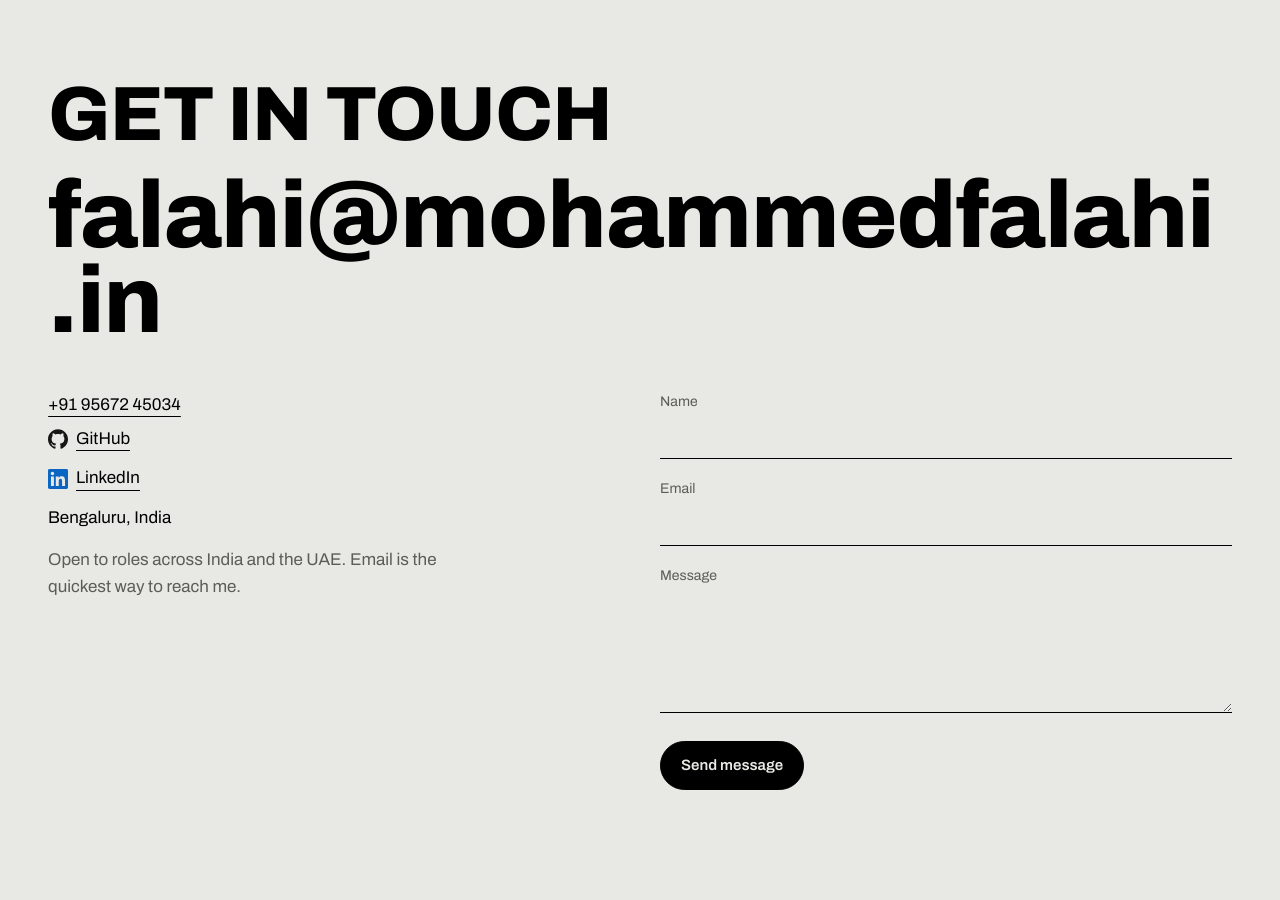
Test: Contact › shows the error when fetch rejects
Type "Ada" into the field labelled "Name" at [946, 437], box [660, 416, 1232, 459]
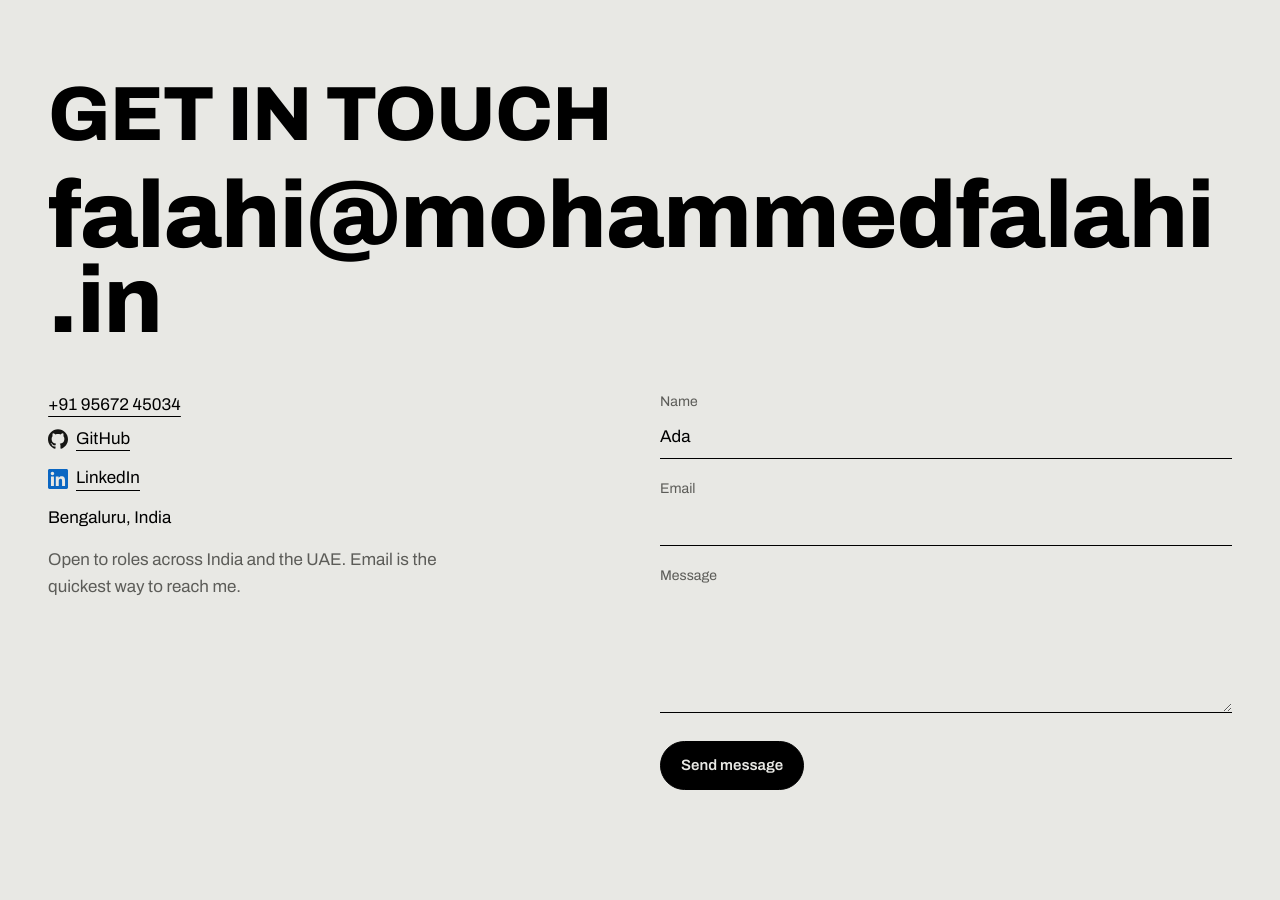
Type "ada@example.com" into the field labelled "Email" at [946, 525], box [660, 503, 1232, 546]
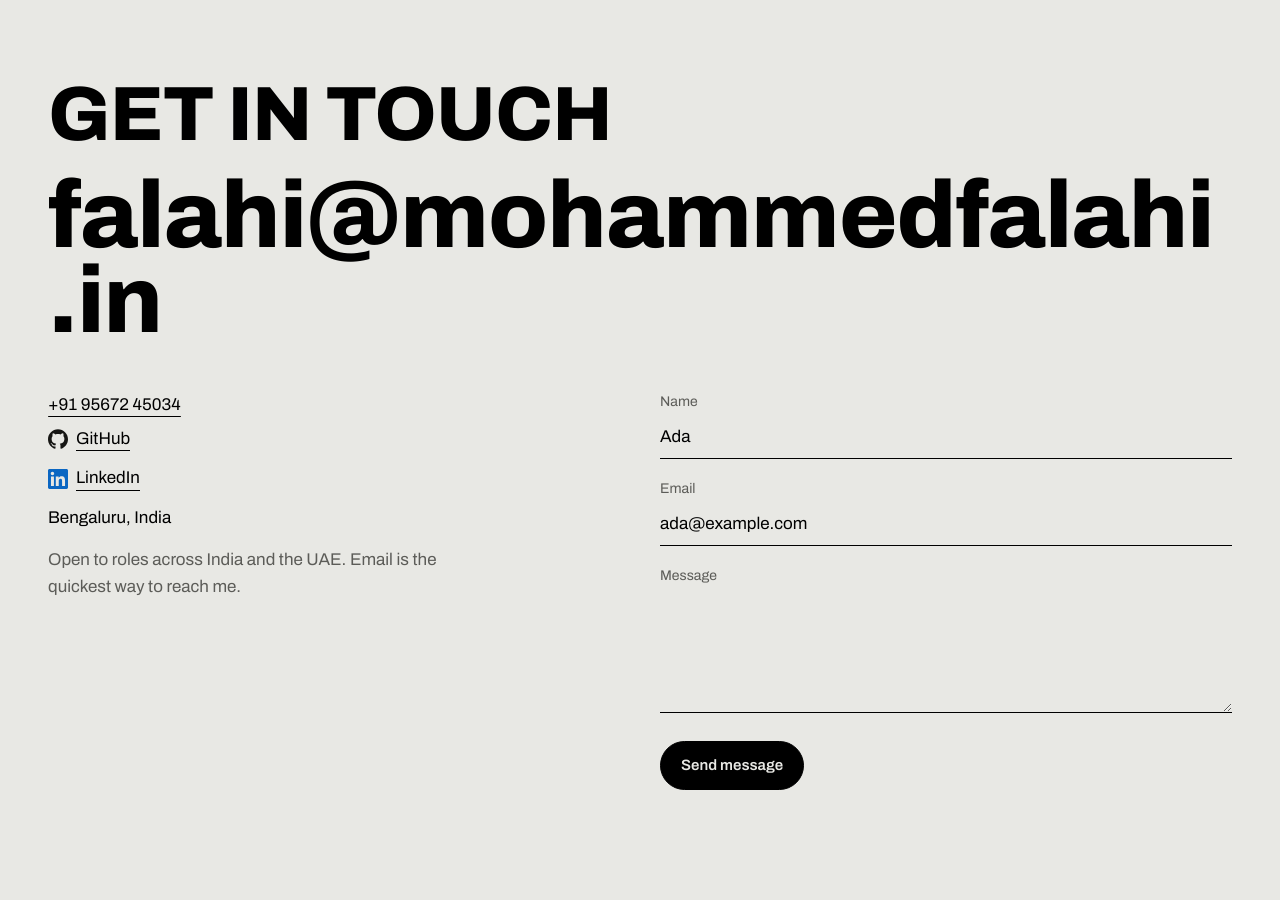
Type "Hello there" into the text box labelled "Message" at [946, 652], box [660, 590, 1232, 713]
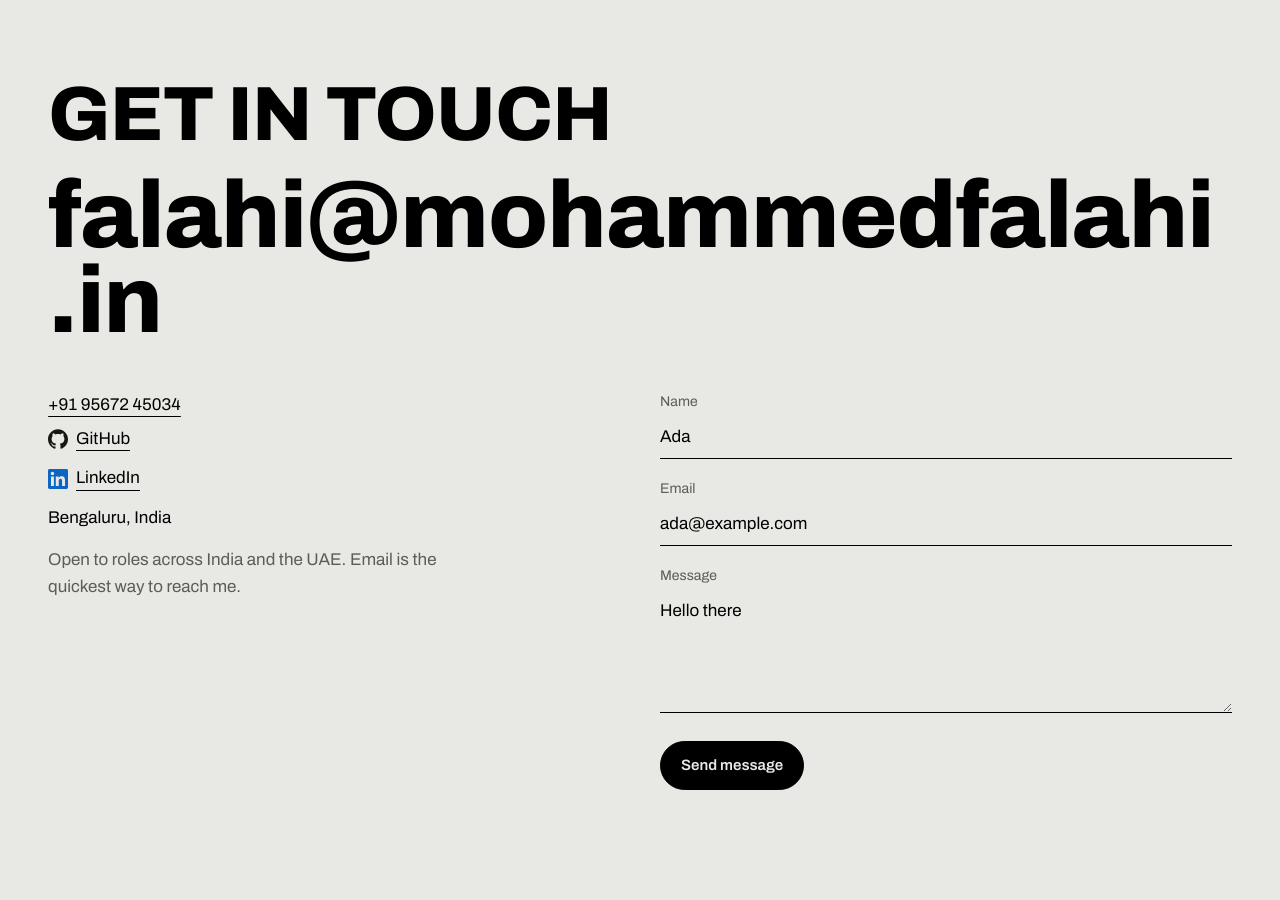
Click the button "Send message" at [732, 766], box [660, 741, 804, 790]
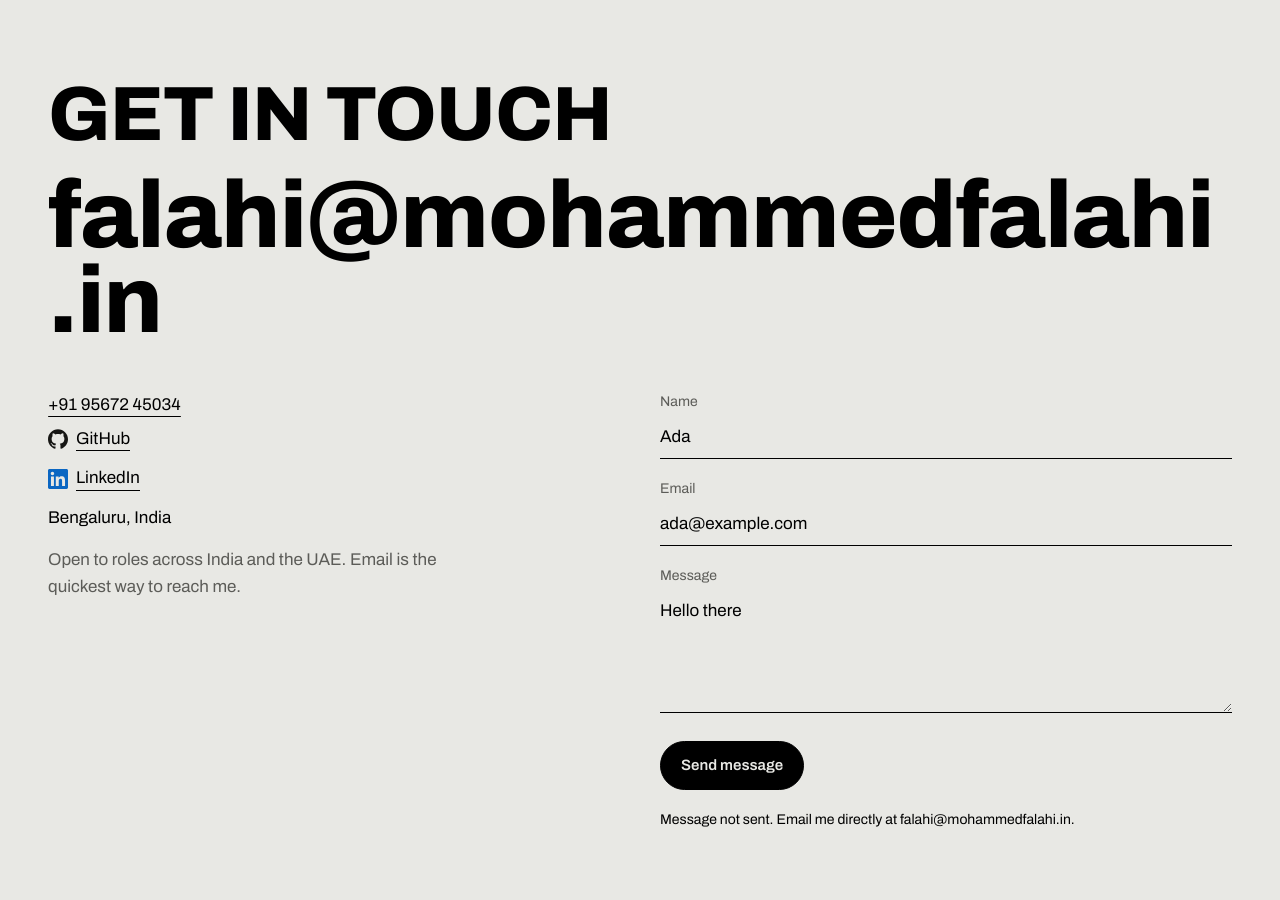
Expected: the text "Message not sent. Email me directly at falahi@mohammedfalahi.in." is shown, [660, 812, 1075, 827]
